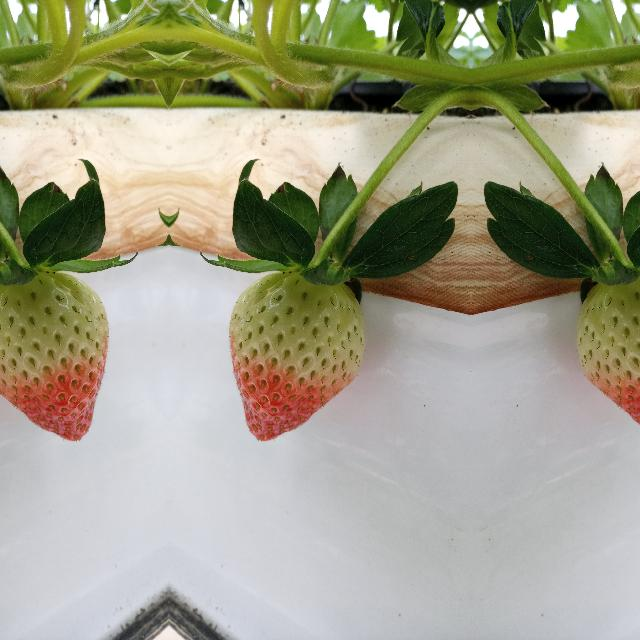Health_50: (227, 270, 365, 442), (0, 270, 109, 441), (576, 270, 640, 441)
